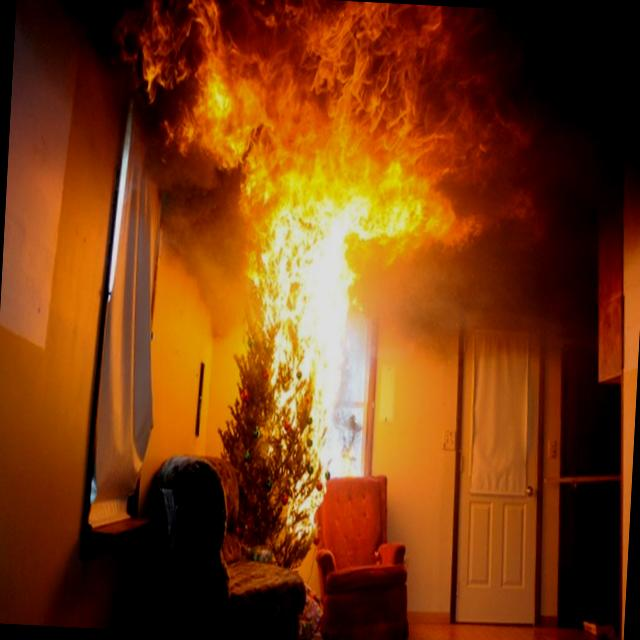fire: (108, 0, 555, 537)
